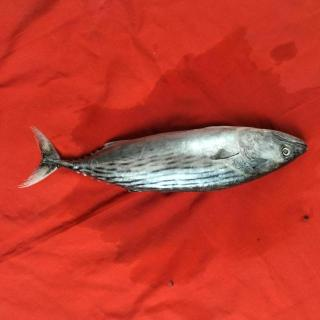Ikan: (24, 118, 308, 204)
